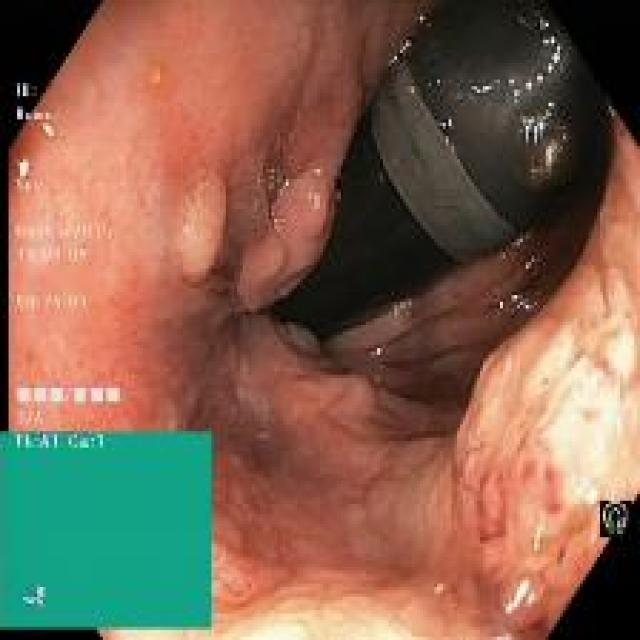Polyps: (456, 126, 640, 637), (236, 162, 336, 310), (178, 167, 226, 284), (335, 374, 375, 424)
